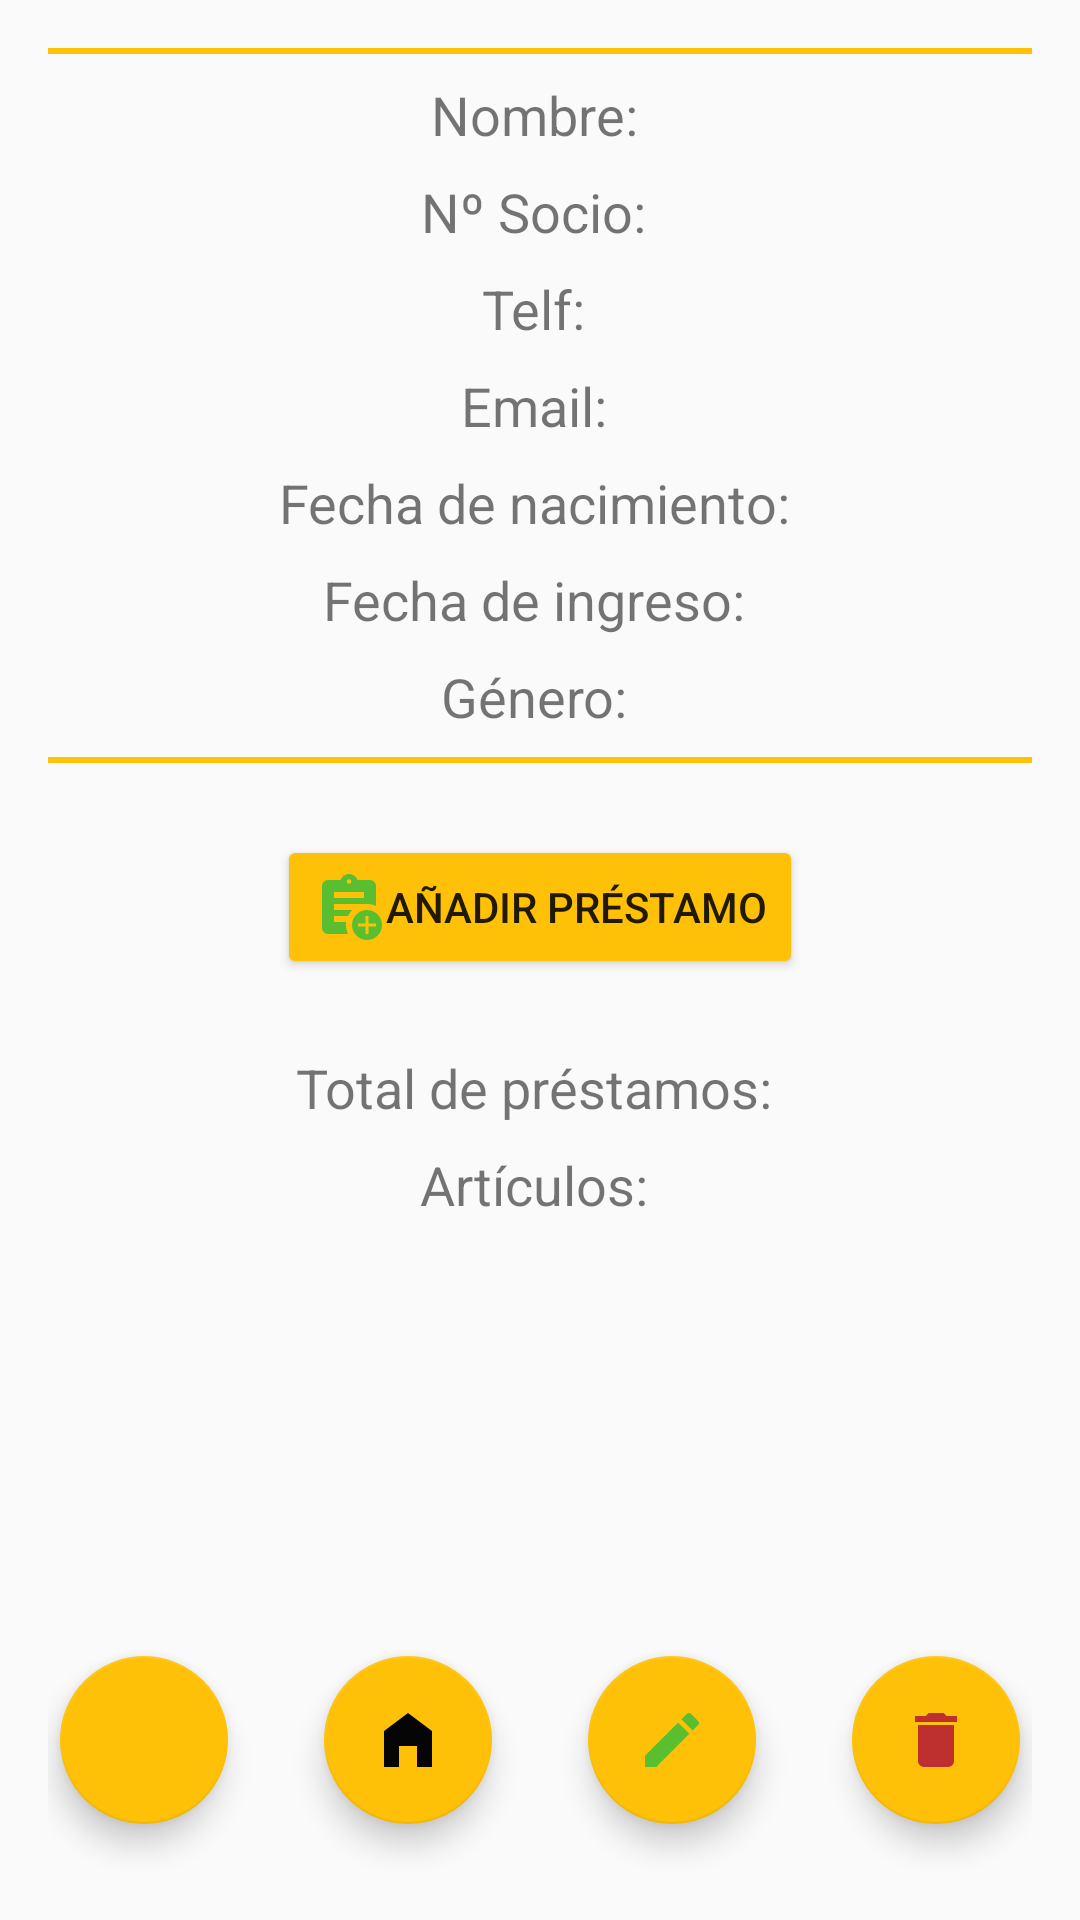

Locate icon controls on the screen. Image size 1080×1920, boxes as (x1, y1, x2, y2).
delete: (852, 1656, 1020, 1824)
edit: (588, 1656, 756, 1824)
home: (324, 1656, 492, 1824)
